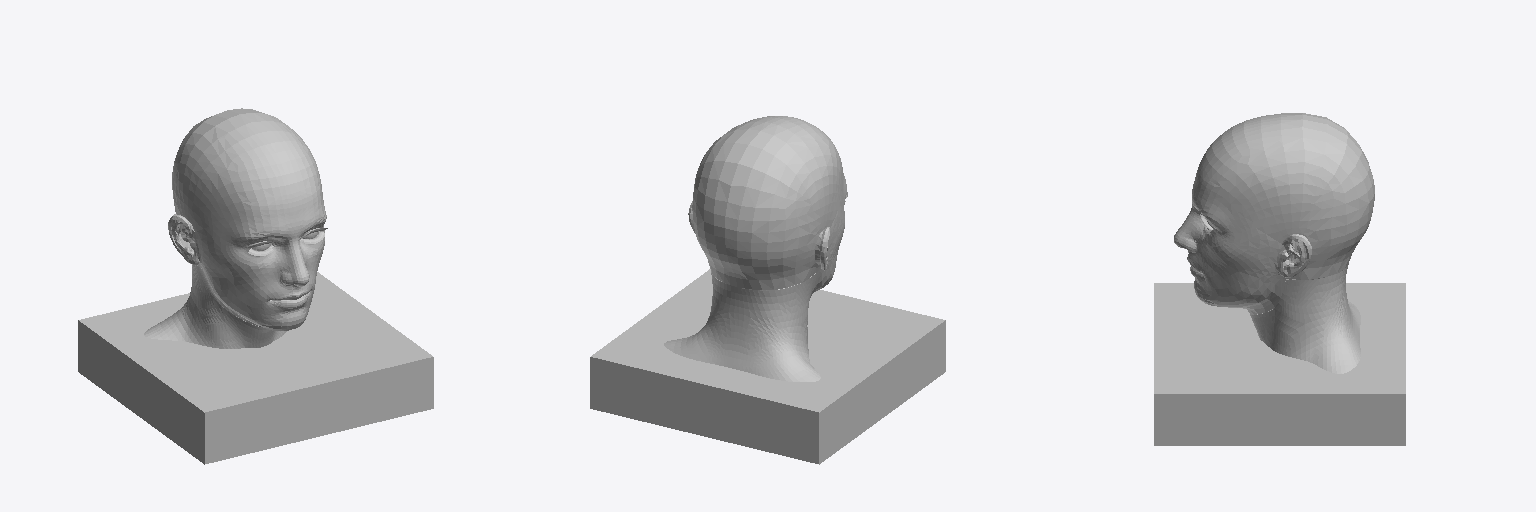
The model's file is Malebase3_3.obj.
3 renders of one model, left to right at view 1: azimuth 30°, elevation 25°; view 2: azimuth 150°, elevation 25°; view 3: azimuth 270°, elevation 25°, orthographic.
Visible parts, largest first — view 1: male3, head; view 2: male3, head; view 3: male3, head.
Part boxes in pixels (bbox=[...]): male3: bbox=[78, 265, 433, 464]; head: bbox=[168, 108, 327, 330]; male3: bbox=[590, 269, 945, 464]; head: bbox=[688, 116, 847, 297]; male3: bbox=[1154, 264, 1405, 445]; head: bbox=[1174, 113, 1374, 314].
Size of the model in its own units: 0.1224 by 0.1373 by 0.1169.